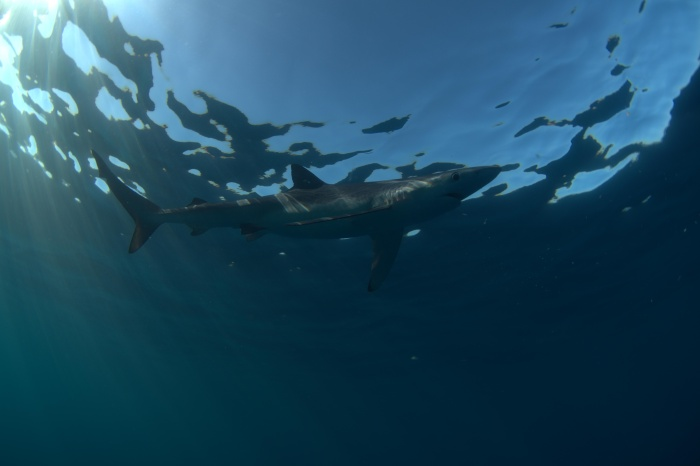Azul: (70, 139, 505, 311)
